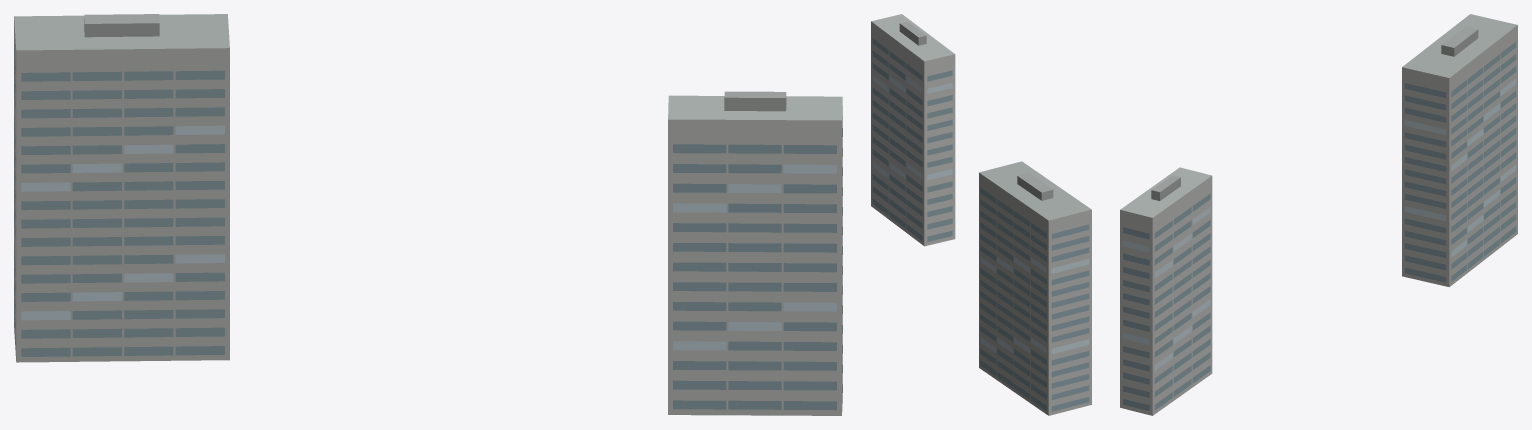
File: apt-a10024768.glb
3 views of the same model, side by side, from view 1: azimuth 30°, elevation 25°; view 2: azimuth 150°, elevation 25°; view 3: azimuth 270°, elevation 25° (orthographic). The views are drawn at different scales.
Visible parts, largest first — view 1: apt-a10024768; view 2: apt-a10024768; view 3: apt-a10024768.
Boxes of the visible parts, x1,y1,x2,y2 form: apt-a10024768: [14, 14, 842, 415]; apt-a10024768: [871, 14, 1091, 415]; apt-a10024768: [1120, 14, 1517, 415].
Size of the model in its own units: 112 by 59 by 97.54.
